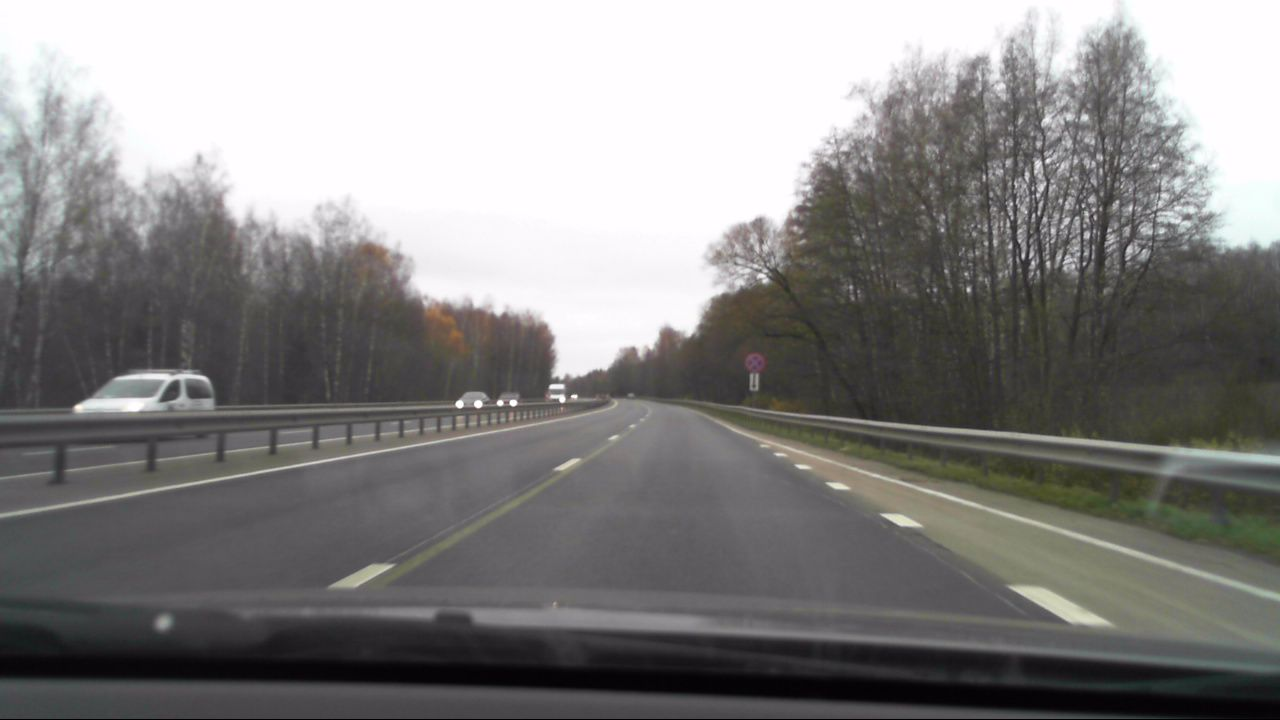No Parking: (742, 352, 765, 372)
